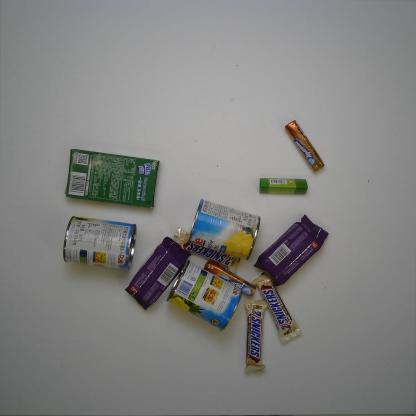Candy: (284, 118, 325, 172), (202, 259, 256, 298)
Canned Food: (165, 259, 243, 332), (187, 198, 261, 261), (62, 215, 138, 272)
Chocolate: (252, 270, 302, 344), (172, 227, 241, 274), (243, 298, 268, 374)
Dessert: (252, 212, 330, 288), (64, 148, 160, 208), (124, 236, 192, 312)
Stationery: (259, 177, 308, 195)
